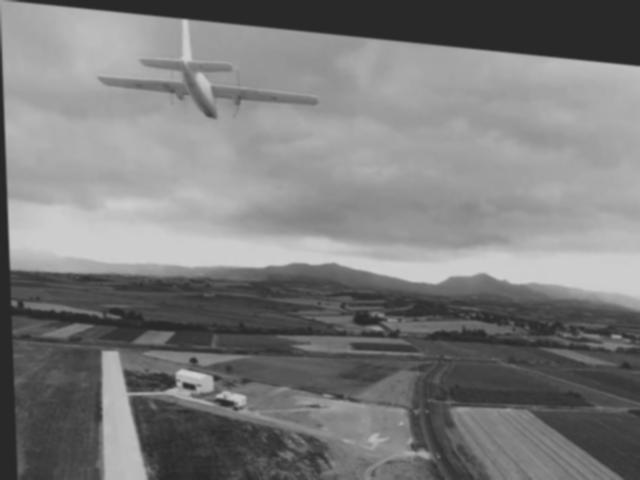hedef: (93, 8, 327, 133)
